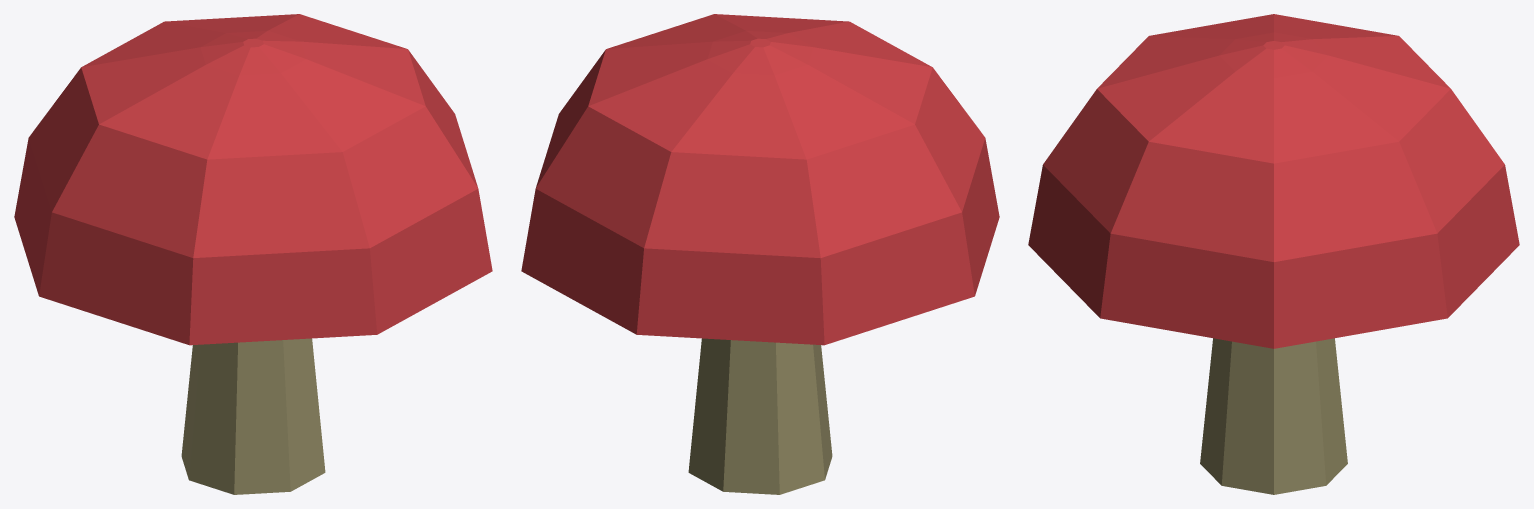
The model's file is Mushroom.fbx.
3 renders of one model, left to right at view 1: azimuth 30°, elevation 25°; view 2: azimuth 150°, elevation 25°; view 3: azimuth 270°, elevation 25°, orthographic.
Parts seen in each view (by area): view 1: Mushroom; view 2: Mushroom; view 3: Mushroom.
Part boxes in pixels (bbox=[...]): Mushroom: bbox=[14, 14, 492, 494]; Mushroom: bbox=[521, 14, 999, 494]; Mushroom: bbox=[1028, 14, 1519, 494].
Size of the model in its own units: 81.6 by 76.63 by 81.6.
